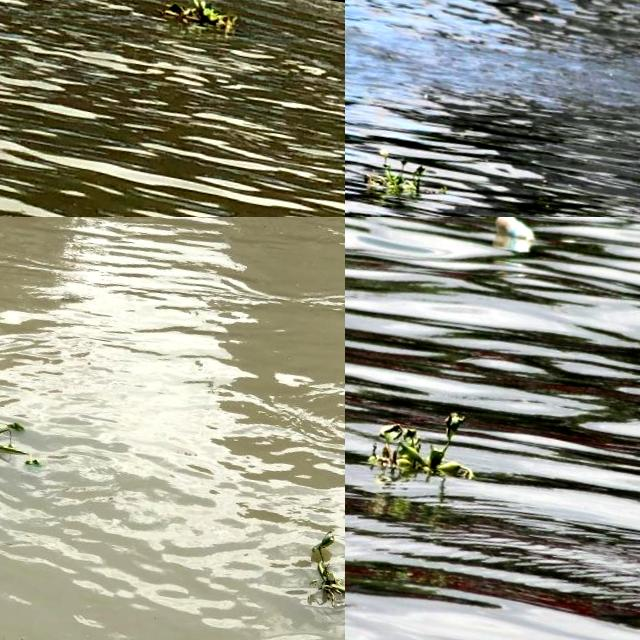plastic bottle: (489, 218, 536, 242)
water-hyacinth: (1, 383, 101, 513), (365, 395, 492, 496), (357, 149, 457, 208), (160, 1, 247, 40)
